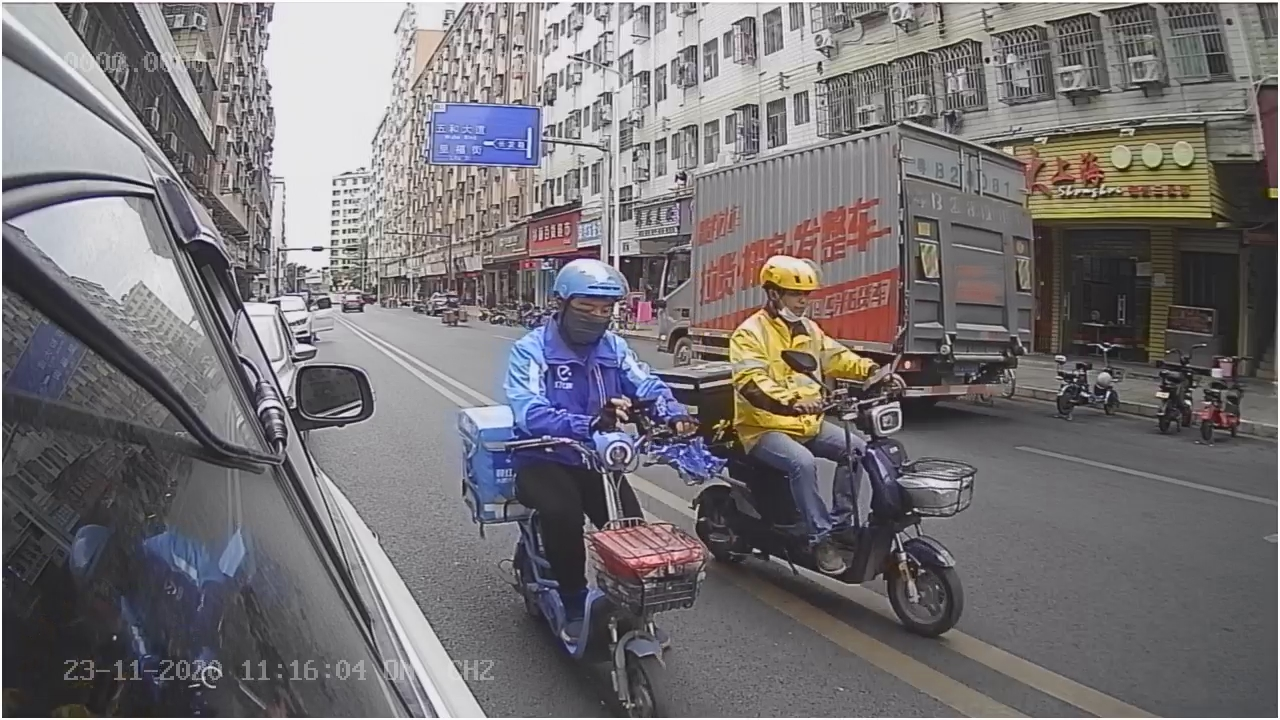person: (496, 251, 683, 407), (721, 249, 894, 373)
